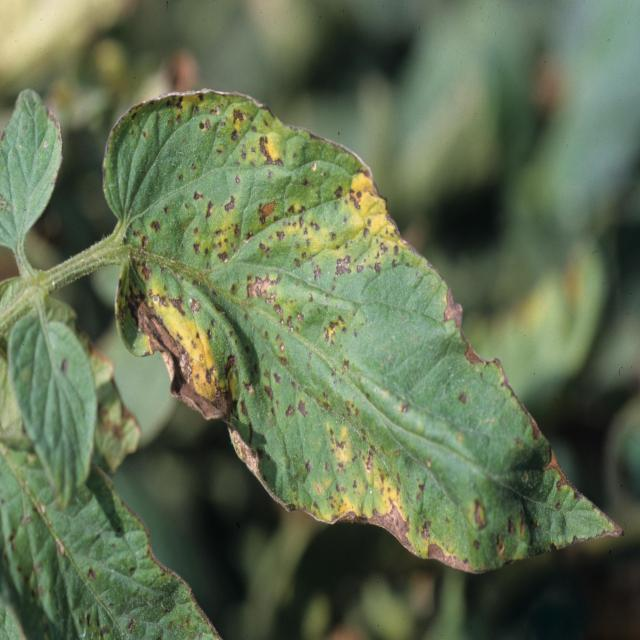Tomato bacterial spot leaf: (90, 77, 637, 577)
